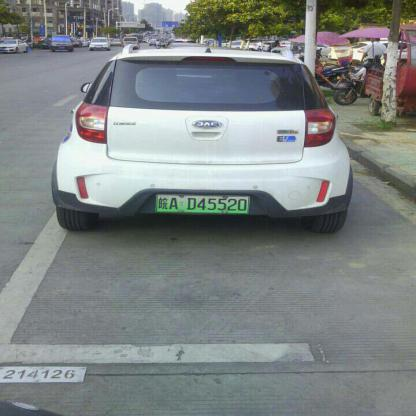lp: (156, 194, 248, 212)
